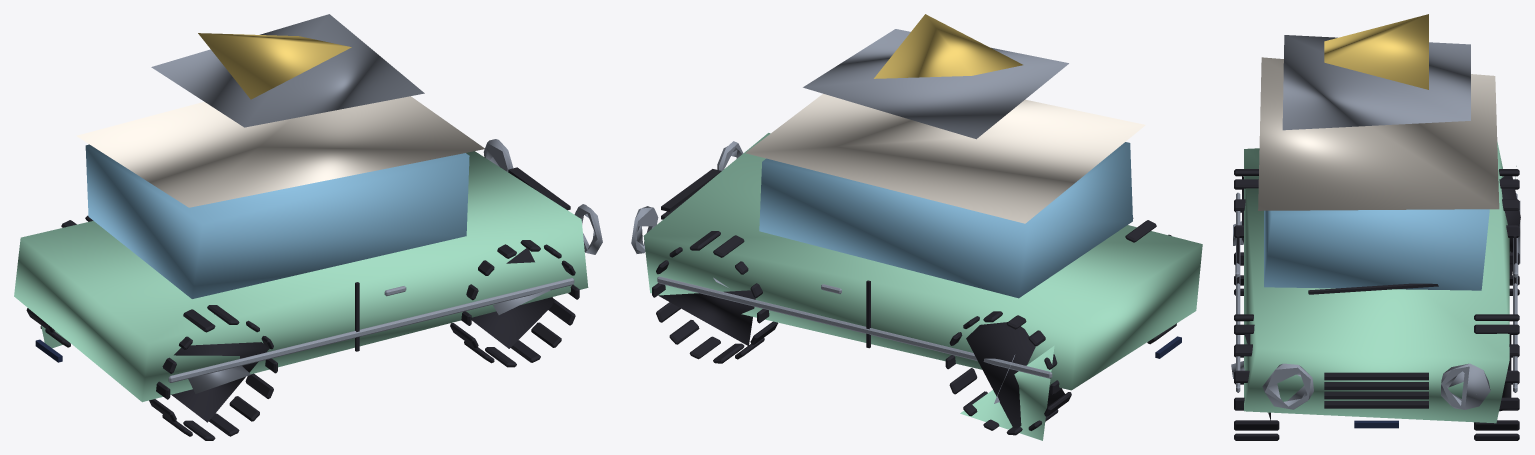
File: car_b.glb
3 renders of one model, left to right at view 1: azimuth 30°, elevation 25°; view 2: azimuth 150°, elevation 25°; view 3: azimuth 270°, elevation 25°, orthographic. The views are drawn at different scales.
Parts seen in each view (by area): view 1: car_b; view 2: car_b; view 3: car_b.
Boxes of the visible parts, x1,y1,x2,y2 form: car_b: (14,14,602,440); car_b: (631,14,1202,440); car_b: (1231,14,1520,440).
Size of the model in its own units: 3.88 by 2.33 by 1.94.
1 material, 1 textured.
